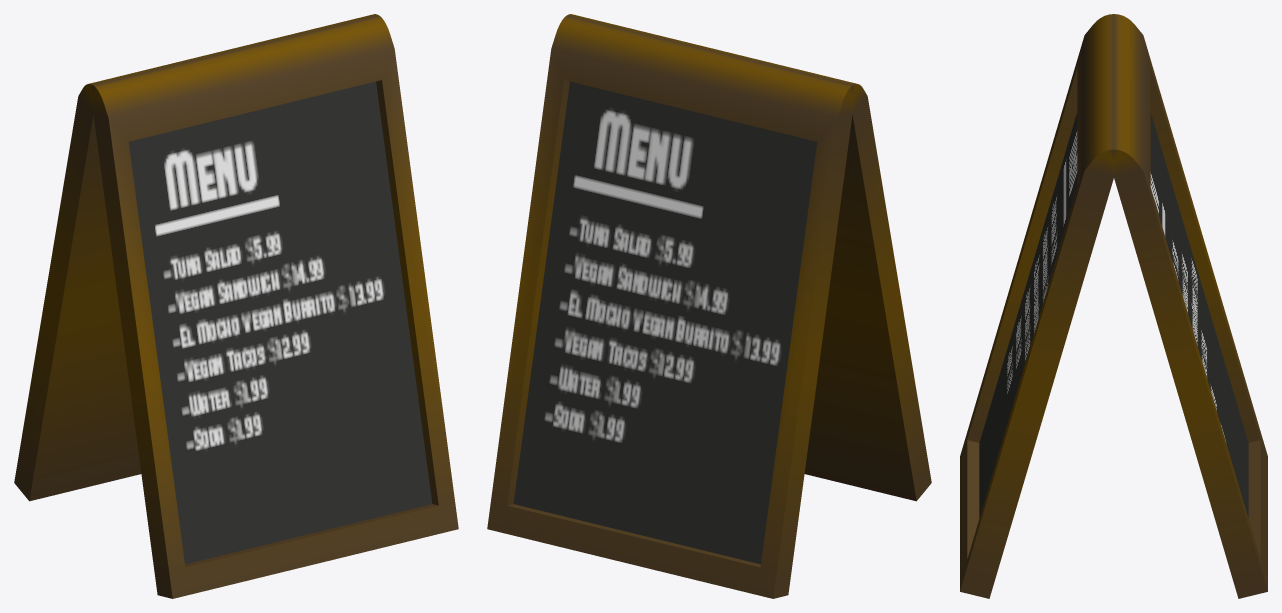
Rendered from Sign C.fbx.
3 renders of one model, left to right at view 1: azimuth 30°, elevation 25°; view 2: azimuth 150°, elevation 25°; view 3: azimuth 270°, elevation 25°, orthographic. The views are drawn at different scales.
Visible parts, largest first — view 1: Sign C; view 2: Sign C; view 3: Sign C.
Part boxes in pixels (x1,y1,x2,y2): Sign C: (14, 14, 458, 598); Sign C: (487, 14, 931, 598); Sign C: (960, 14, 1267, 598).
Size of the model in its own units: 48 by 74.23 by 46.08.
